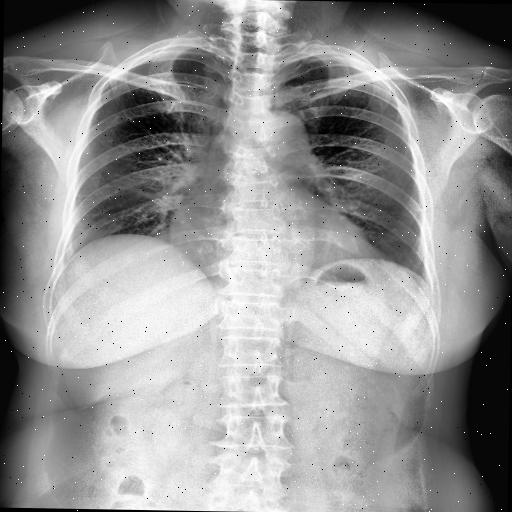0- Aortic enlargement: (246, 110, 316, 168), (250, 108, 310, 168), (250, 111, 310, 156)
3- Cardiomegaly: (169, 218, 383, 282), (170, 206, 386, 265), (168, 218, 386, 258)
